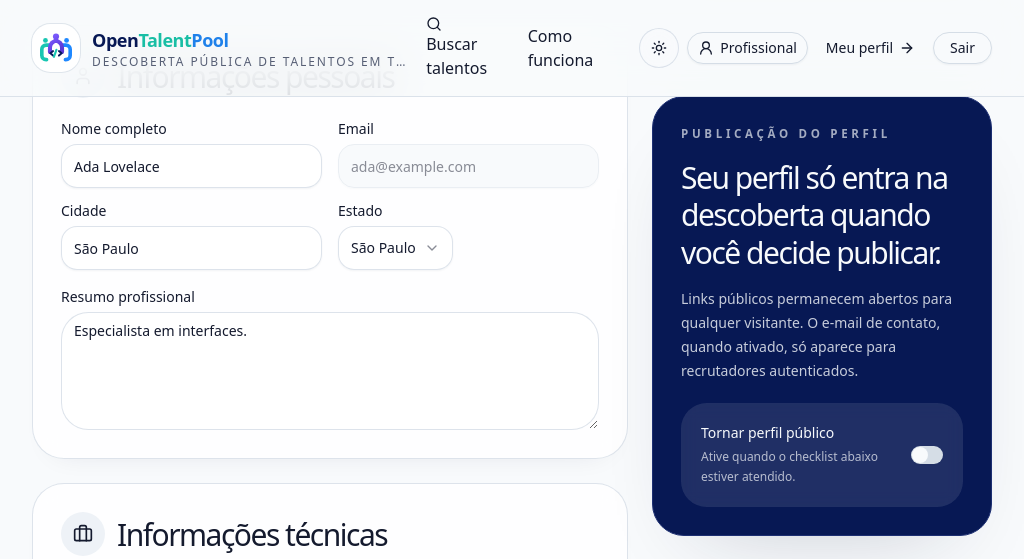
it: Dashboard › permite que o profissional ative a publicação e envie o perfil atualizado
The image size is (1024, 559).
(page scrolled)
Click the switch named "tornar perfil público" below "Tornar perfil público" at x=927, y=455, box [911, 446, 943, 464]
(page scrolled)
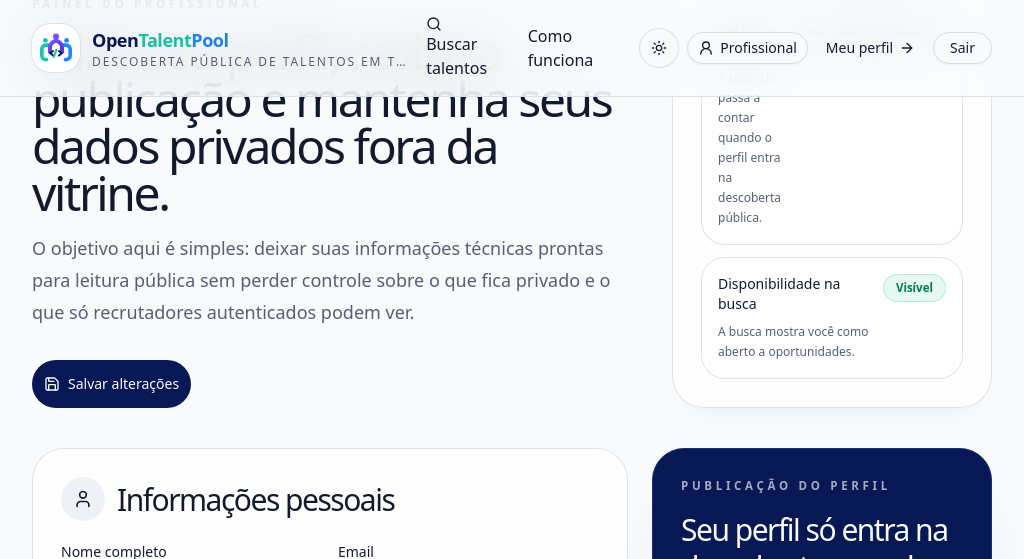
Click the button "Salvar alterações" at x=112, y=384, box [32, 360, 191, 408]
(page scrolled)
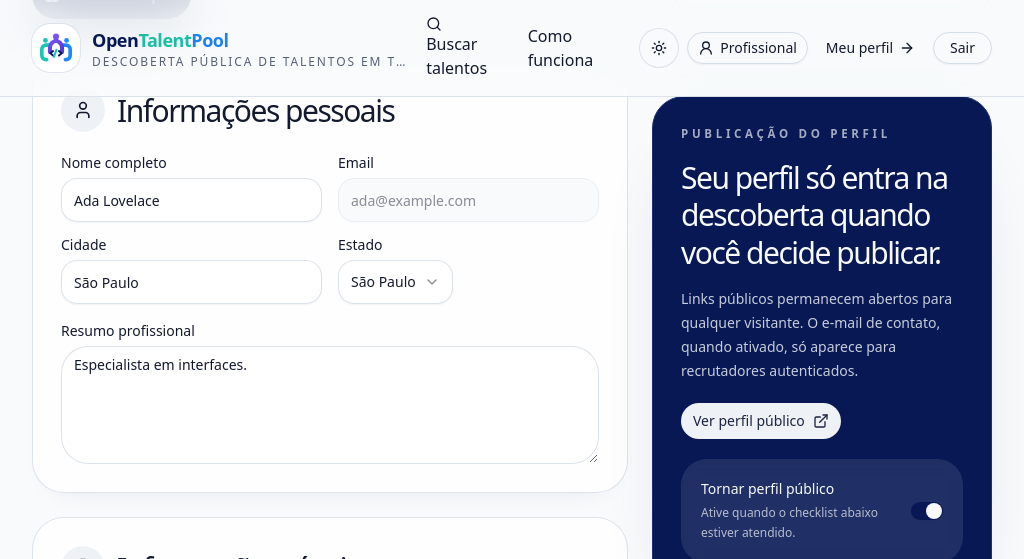
Result: the link "Ver perfil público" is shown at [681, 403, 841, 439]
